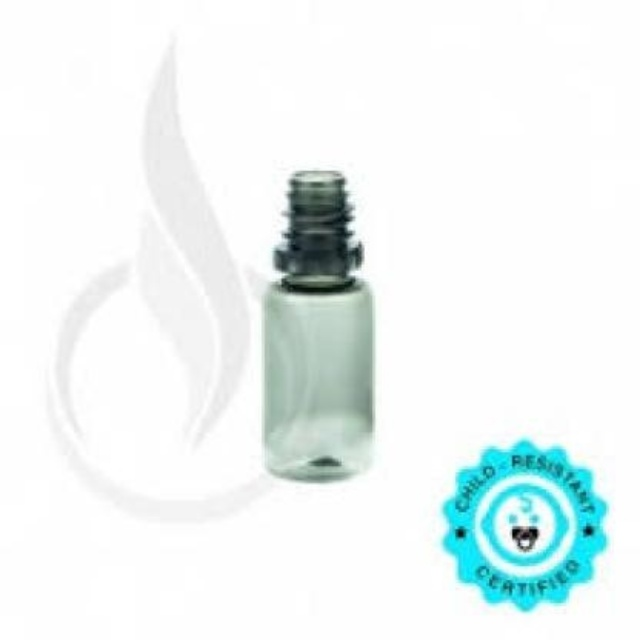trash: (263, 171, 372, 480)
